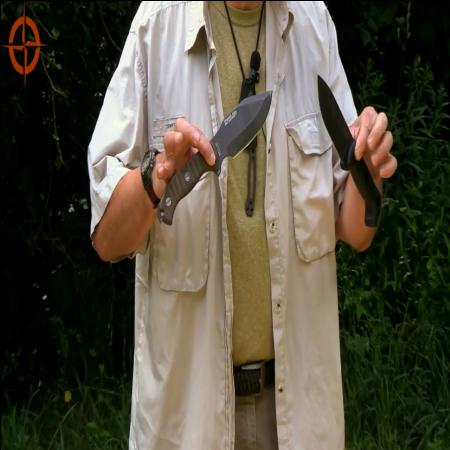long weapon: (155, 82, 274, 228), (312, 66, 383, 229)
